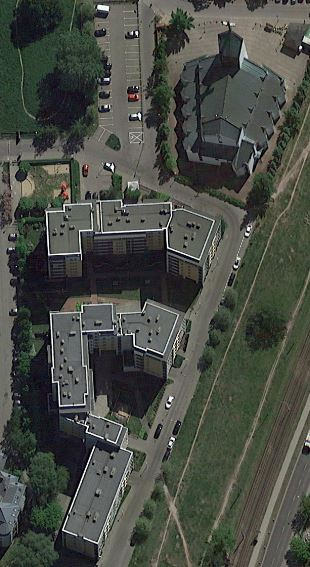block of flats: (40, 291, 200, 559), (39, 186, 227, 291)
church: (172, 10, 295, 182)
